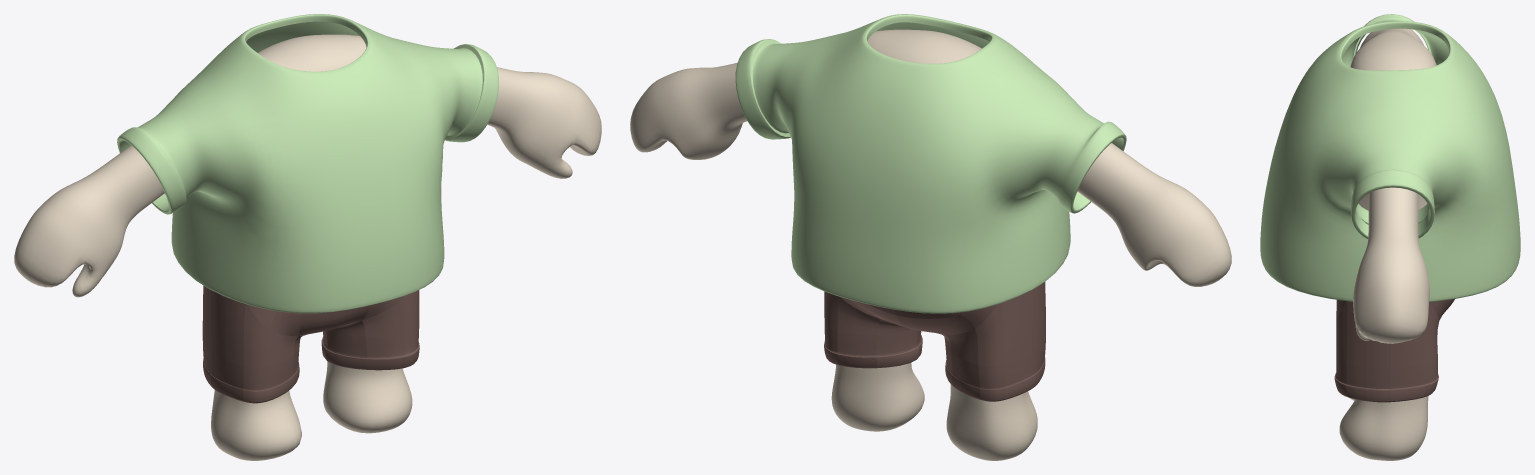
Rendered from CreateCH.fbx.
3 renders of one model, left to right at view 1: azimuth 30°, elevation 25°; view 2: azimuth 150°, elevation 25°; view 3: azimuth 270°, elevation 25°, orthographic. The views are drawn at different scales.
Visible parts, largest first — view 1: Tshirts, Body, Pants; view 2: Tshirts, Body, Pants; view 3: Tshirts, Body, Pants.
Boxes of the visible parts, x1=… form: Tshirts: x1=117, y1=14, x2=498, y2=313; Body: x1=14, y1=34, x2=601, y2=460; Pants: x1=202, y1=285, x2=419, y2=403; Tshirts: x1=735, y1=14, x2=1126, y2=313; Body: x1=630, y1=29, x2=1231, y2=460; Pants: x1=824, y1=282, x2=1045, y2=401; Tshirts: x1=1260, y1=14, x2=1520, y2=301; Body: x1=1339, y1=28, x2=1436, y2=460; Pants: x1=1334, y1=299, x2=1454, y2=402.
Bounding box in the file's own units: 287 × 185 × 116.
